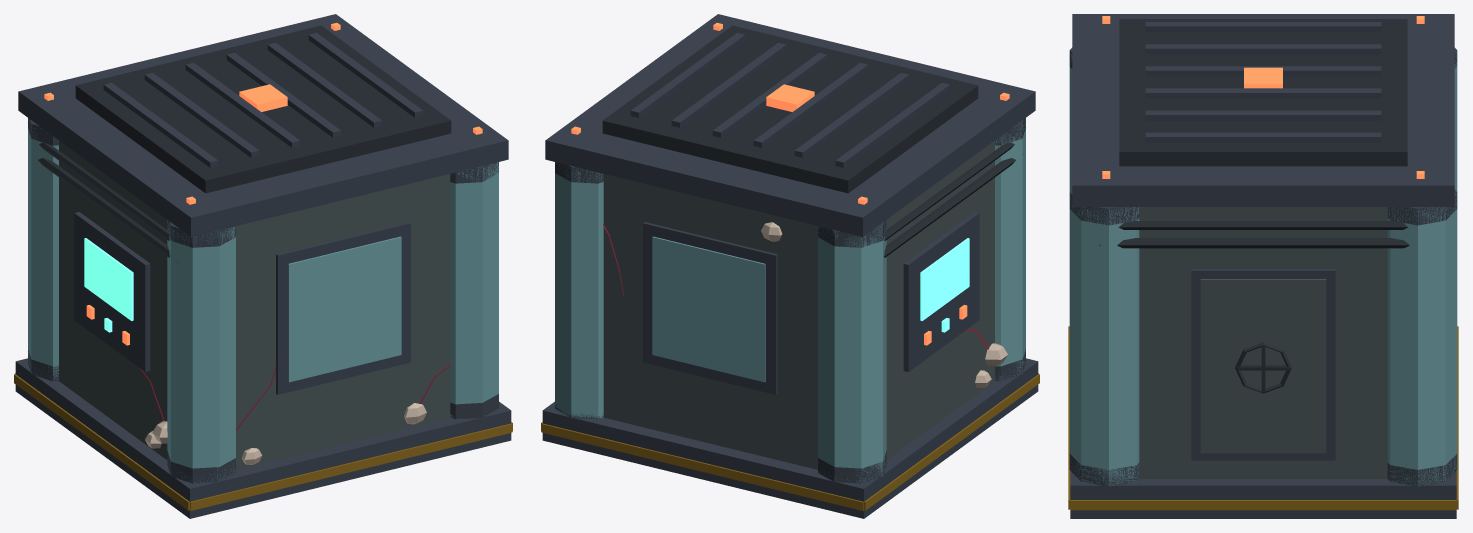
Rendered from Lab_Block.fbx.
The picture shows the model from 3 angles, left to right: view 1: azimuth 30°, elevation 25°; view 2: azimuth 150°, elevation 25°; view 3: azimuth 270°, elevation 25°; orthographic projection. The views are drawn at different scales.
Visible parts, largest first — view 1: Lab_Block; view 2: Lab_Block; view 3: Lab_Block.
Part boxes in pixels (x1,y1,x2,y2): Lab_Block: (14, 14, 512, 518); Lab_Block: (541, 14, 1039, 518); Lab_Block: (1068, 14, 1458, 518).
Size of the model in its own units: 3.17 by 3 by 2.98.
